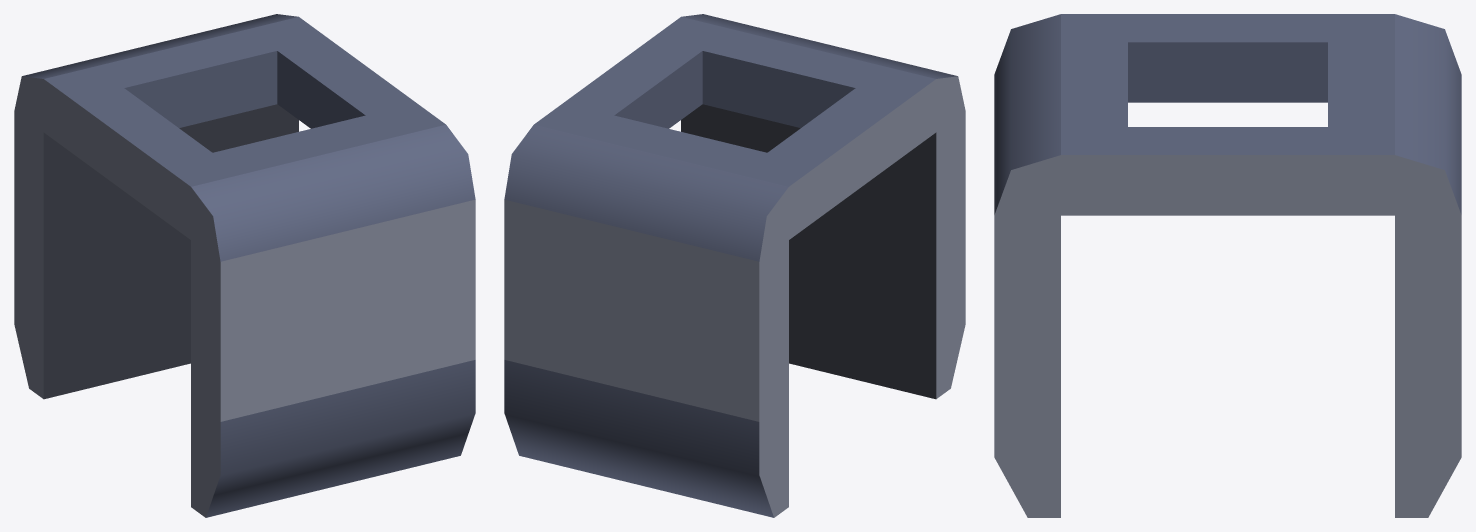
The model's file is CoverTop-transformed.glb.
3 views of the same model, side by side, from view 1: azimuth 30°, elevation 25°; view 2: azimuth 150°, elevation 25°; view 3: azimuth 270°, elevation 25° (orthographic). The views are drawn at different scales.
Parts seen in each view (by area): view 1: cover-top; view 2: cover-top; view 3: cover-top.
Part boxes in pixels (x1,y1,x2,y2): cover-top: (14,14,475,517); cover-top: (504,14,965,517); cover-top: (994,14,1461,517).
Bounding box in the file's own units: 1 × 1.2 × 1.4.
